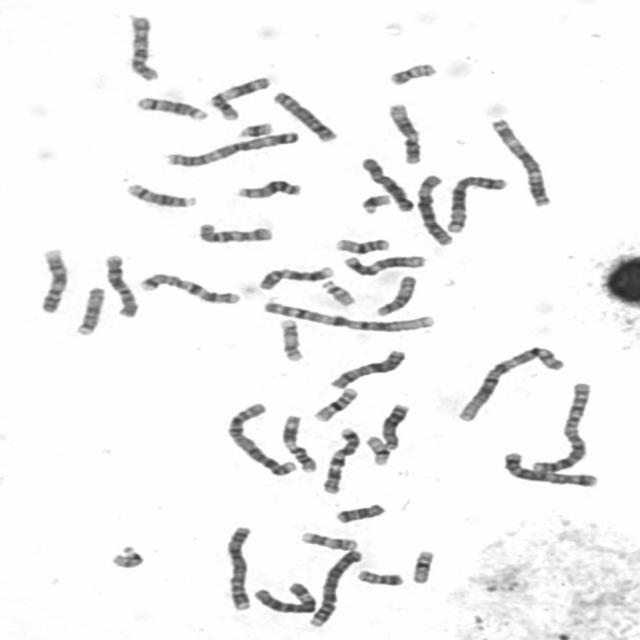A1: (451, 343, 567, 423), (258, 296, 439, 334)
A2: (528, 379, 594, 475), (223, 399, 299, 477)
A3: (486, 115, 553, 207), (158, 127, 302, 168)
B4: (304, 547, 364, 629), (220, 522, 255, 611)
B5: (441, 171, 509, 234), (497, 448, 601, 488)
C10: (122, 14, 163, 82), (193, 219, 275, 245)
C11: (205, 73, 272, 122), (277, 411, 319, 474)
C12: (382, 100, 424, 166), (338, 251, 428, 277)
C6: (412, 171, 456, 247), (248, 578, 319, 616)
C7: (134, 269, 244, 306), (317, 424, 362, 495)
C8: (267, 88, 339, 144), (105, 253, 144, 322)
C9: (34, 244, 70, 314), (253, 262, 336, 292)
D13: (376, 400, 412, 451), (231, 177, 303, 200)
D14: (130, 93, 210, 122), (120, 180, 200, 208)
D15: (371, 272, 419, 318), (70, 284, 106, 338)
E16: (308, 384, 360, 423), (329, 234, 392, 255)
E17: (295, 528, 360, 552), (276, 315, 304, 363)
E18: (330, 500, 387, 525)
F19: (406, 547, 437, 585), (362, 432, 392, 467)
F20: (383, 58, 439, 87), (352, 566, 405, 588)
G21: (356, 191, 393, 216), (232, 119, 276, 139)
G22: (316, 277, 358, 307), (105, 542, 146, 569)
X: (324, 346, 409, 391), (356, 154, 416, 213)
